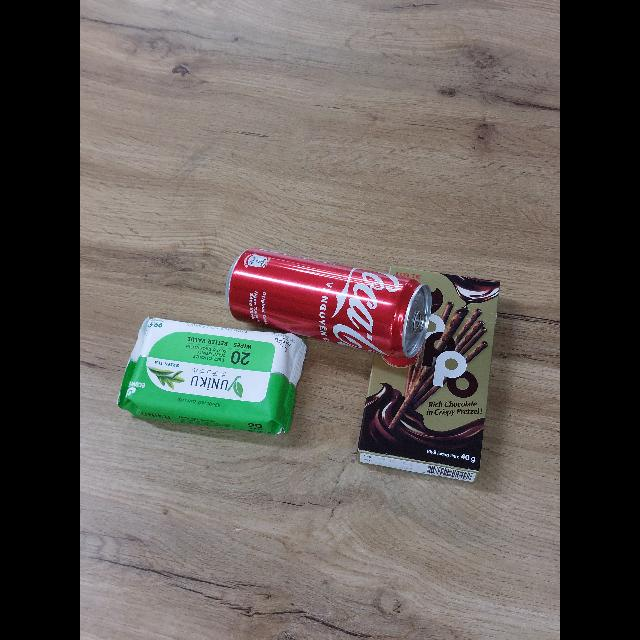banh_toppo_socola: (359, 265, 498, 483)
coca_cola: (226, 248, 434, 357)
khan_giay: (117, 318, 306, 438)
